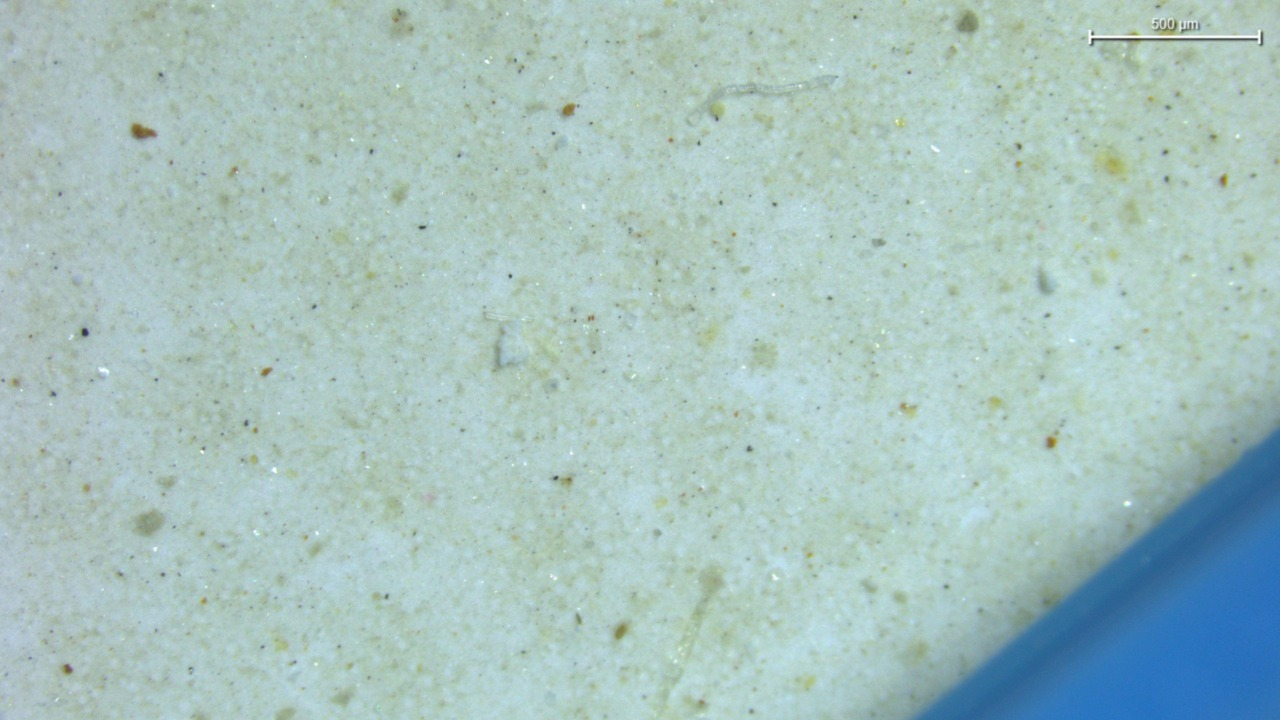microplastic_fragment: (497, 321, 528, 367)
